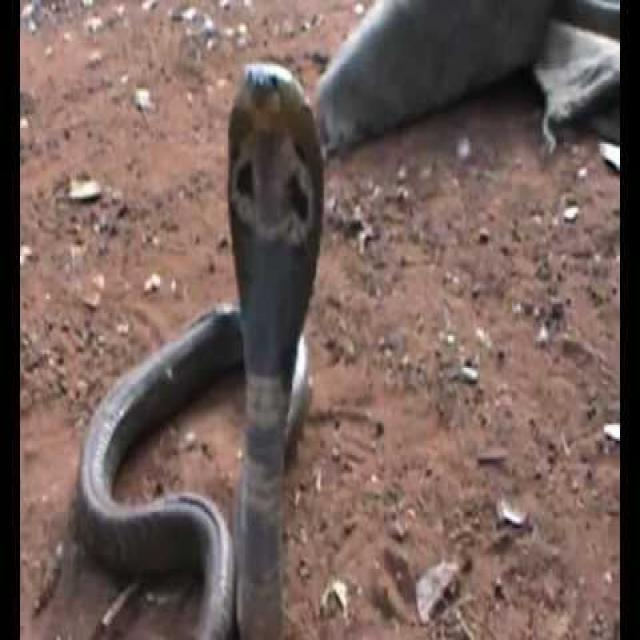Snake: (74, 59, 326, 638)
